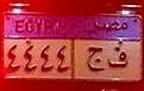4: (22, 44, 38, 76), (38, 43, 54, 73), (54, 43, 69, 73), (6, 43, 21, 73)
faa: (107, 45, 129, 70)
jeem: (86, 45, 106, 76)
